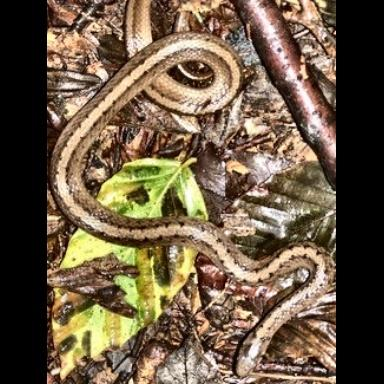snake: (49, 33, 329, 379)
